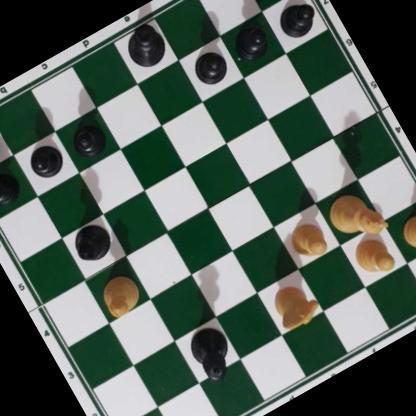black-bishop: (67, 218, 118, 269)
black-king: (116, 18, 173, 76)
black-pawn: (186, 42, 231, 89), (272, 0, 321, 43), (228, 19, 273, 64), (65, 116, 109, 161), (23, 139, 66, 184), (0, 165, 23, 210)
black-queen: (183, 319, 243, 387)
black-rook: (0, 113, 6, 174), (243, 0, 306, 2)
white-bishop: (94, 269, 146, 322)
white-king: (324, 184, 391, 250)
white-knight: (265, 276, 324, 335)
white-pawn: (348, 231, 400, 284), (284, 215, 331, 264), (396, 207, 416, 258)
